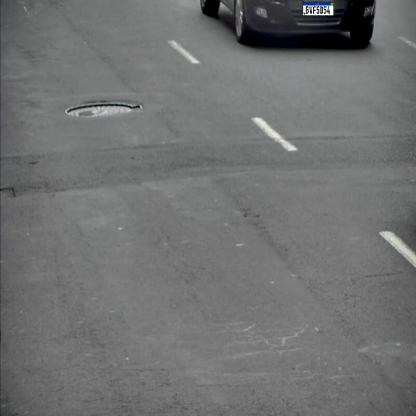PlacaM: (302, 1, 334, 16)
